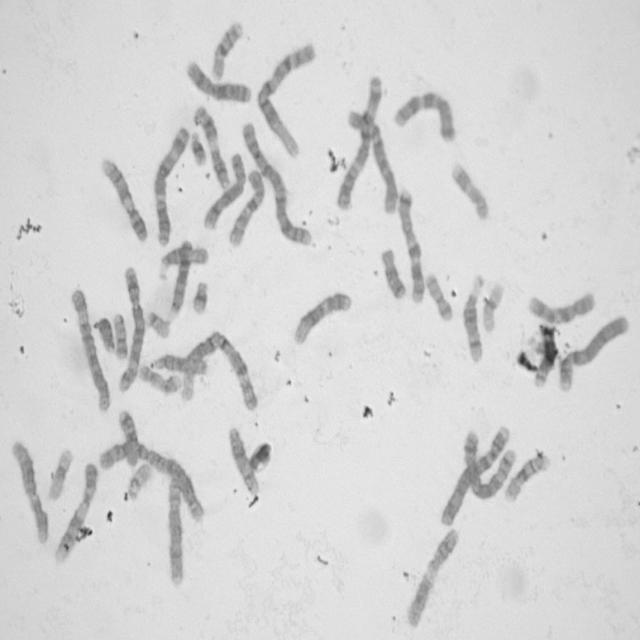A1: (254, 39, 317, 160), (177, 326, 260, 414)
A2: (96, 437, 208, 525), (241, 117, 314, 249)
A3: (334, 71, 384, 212), (151, 121, 190, 246)
B4: (437, 422, 512, 528), (555, 311, 630, 394)
B5: (114, 263, 146, 395), (459, 428, 516, 498)
C10: (224, 166, 266, 250), (524, 288, 596, 324)
C11: (403, 525, 461, 629), (191, 103, 230, 191)
C12: (10, 437, 50, 545), (290, 288, 353, 347)
C6: (346, 105, 399, 216), (68, 284, 112, 415)
C7: (391, 87, 457, 145), (395, 186, 427, 304)
C8: (200, 148, 248, 232), (165, 472, 185, 585)
C9: (51, 458, 99, 566), (98, 154, 149, 244)
D13: (517, 335, 561, 389), (167, 236, 193, 319)
D14: (226, 423, 260, 496), (461, 271, 485, 367)
D15: (155, 242, 209, 282), (148, 349, 211, 380)
E16: (502, 449, 550, 504), (208, 18, 244, 82)
E17: (450, 160, 490, 222), (136, 362, 182, 396)
E18: (379, 245, 408, 301), (117, 406, 140, 467)
F19: (45, 444, 75, 502), (480, 279, 505, 333)
F20: (424, 270, 453, 322), (112, 310, 129, 362)
G21: (188, 129, 208, 168), (190, 277, 209, 316)
G22: (126, 459, 153, 499), (146, 306, 172, 339)
X: (183, 58, 252, 105)
Y: (93, 314, 116, 354)
